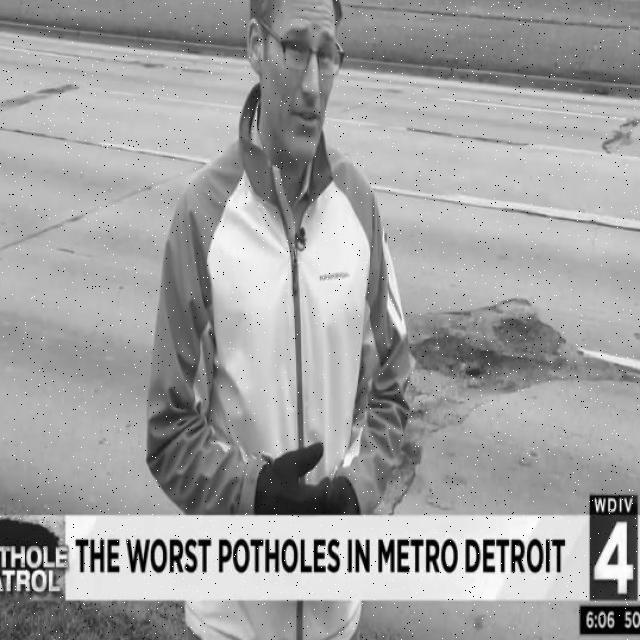pothole: (410, 294, 632, 413)
